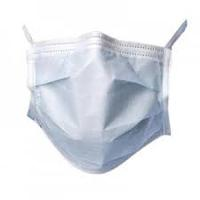flu mask: (21, 29, 179, 177)
